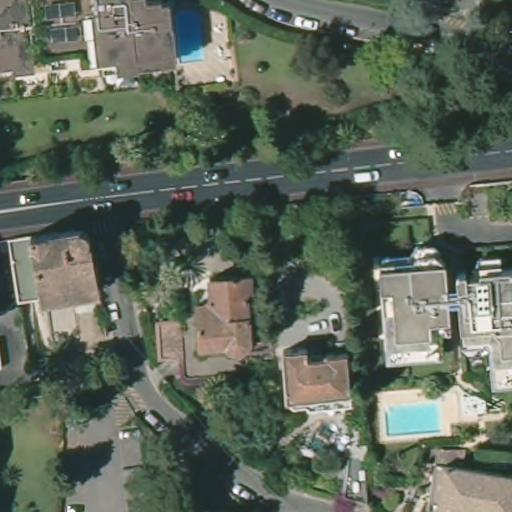pool: (380, 398, 442, 434), (170, 6, 206, 61)
